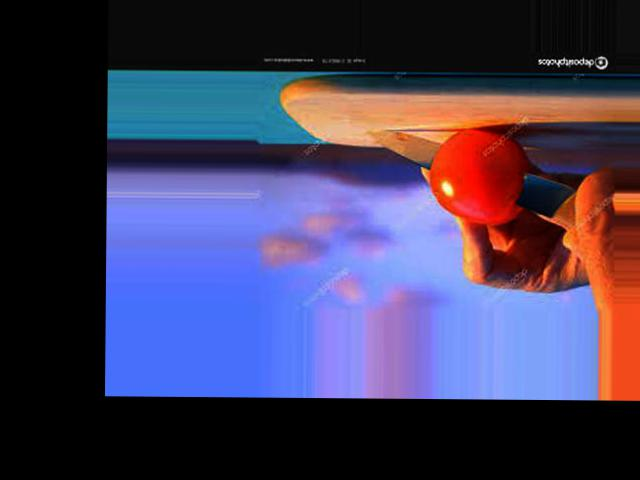tomato: (427, 126, 530, 223)
